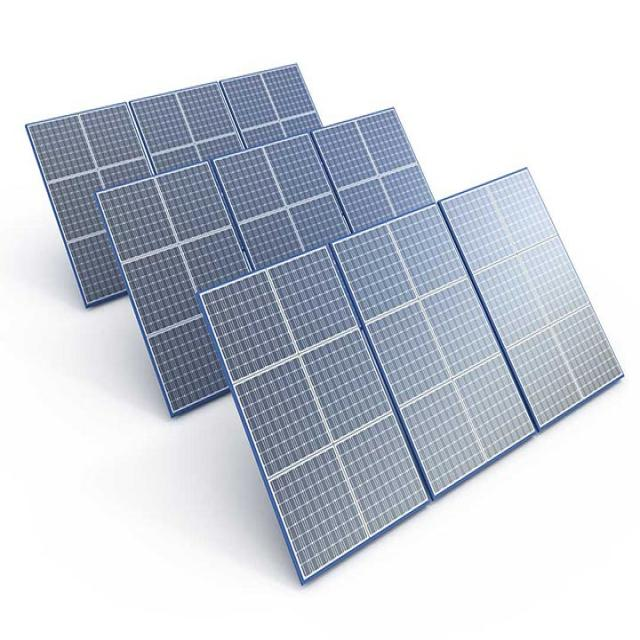clean-solar-panel: (29, 62, 624, 587)
